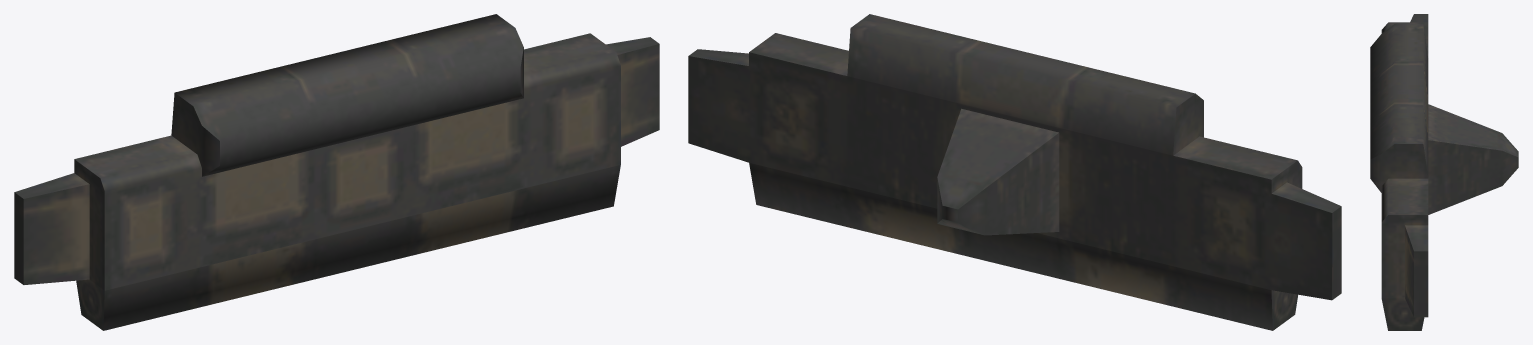
3 renders of one model, left to right at view 1: azimuth 30°, elevation 25°; view 2: azimuth 150°, elevation 25°; view 3: azimuth 270°, elevation 25°, orthographic. The views are drawn at different scales.
Visible parts, largest first — view 1: set_0_group_0; view 2: set_0_group_0; view 3: set_0_group_0.
Part boxes in pixels (bbox=[...]): set_0_group_0: bbox=[14, 14, 659, 330]; set_0_group_0: bbox=[688, 14, 1341, 330]; set_0_group_0: bbox=[1370, 14, 1518, 330].
Bounding box in the file's own units: 0.6931 × 0.2068 × 0.1835.
1 material, 1 textured.
